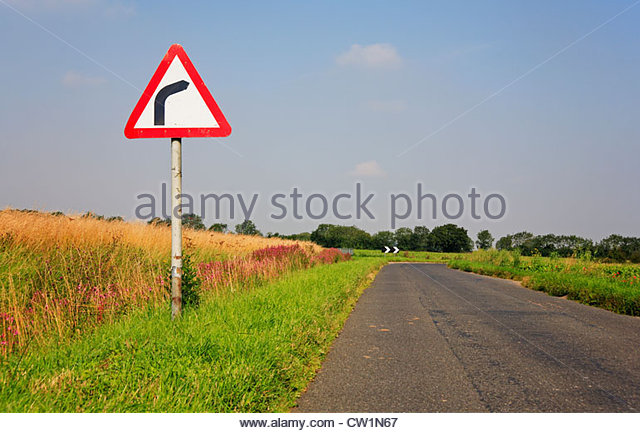Bend_to_right: (120, 41, 233, 142)
